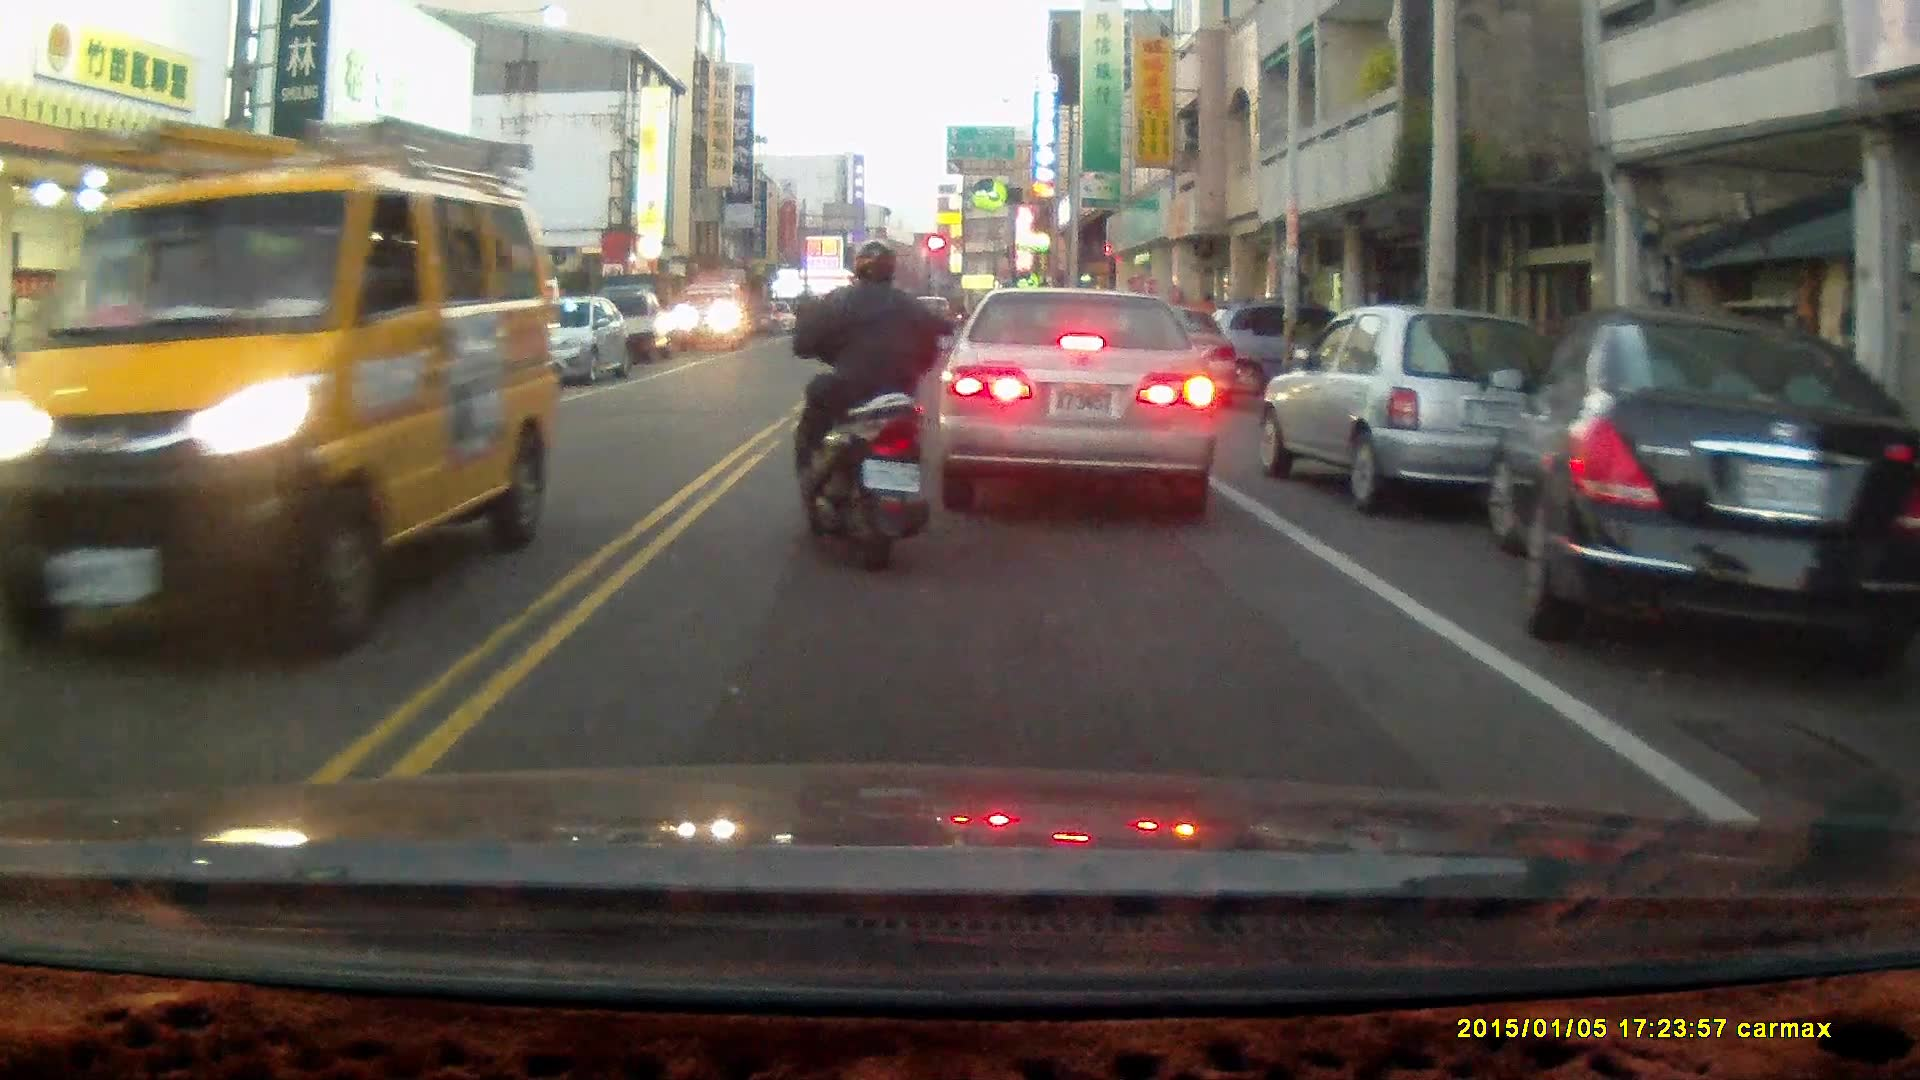rider: (789, 237, 940, 574)
vehicle: (26, 98, 533, 720), (1481, 304, 1920, 683), (936, 280, 1223, 508), (1254, 302, 1550, 515), (512, 294, 635, 386), (678, 271, 758, 341)
